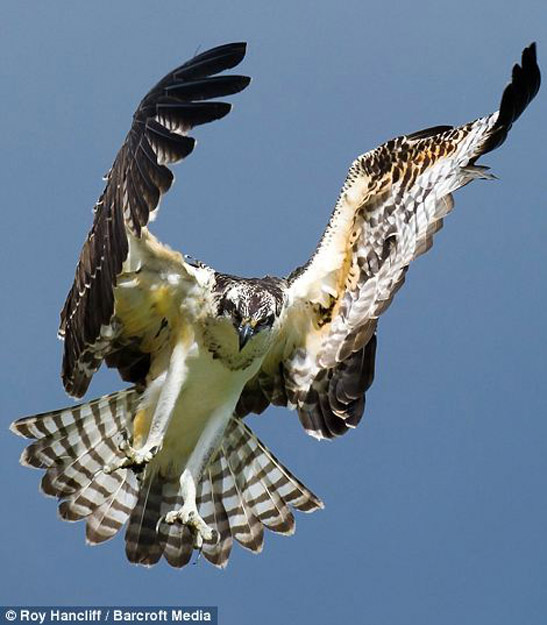bird: (1, 42, 541, 573)
